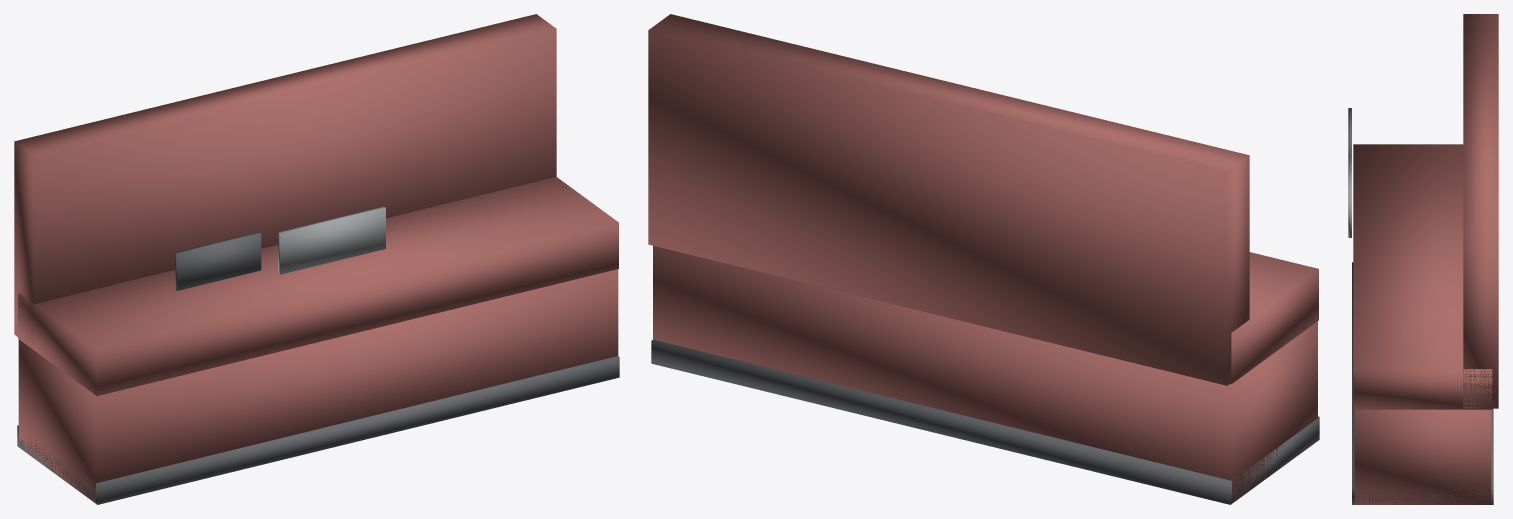
File: diner_booth_double__weathered.glb
3 renders of one model, left to right at view 1: azimuth 30°, elevation 25°; view 2: azimuth 150°, elevation 25°; view 3: azimuth 270°, elevation 25°, orthographic. The views are drawn at different scales.
Visible parts, largest first — view 1: world; view 2: world; view 3: world.
Part boxes in pixels (<box>): world: <box>14,14,619,504</box>; world: <box>648,14,1319,504</box>; world: <box>1348,14,1498,504</box>.
Bounding box in the file's own units: 2.1 × 1.16 × 0.5954.
